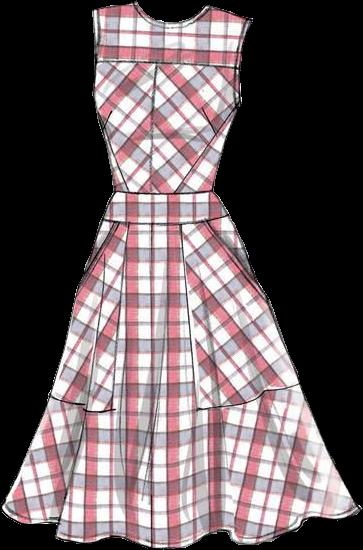Bodice: (92, 0, 252, 196)
Hemline: (0, 506, 362, 549)
Neckline: (130, 0, 209, 28)
Skirt: (2, 192, 360, 547)
Waistline: (99, 209, 229, 227), (110, 186, 214, 200)
